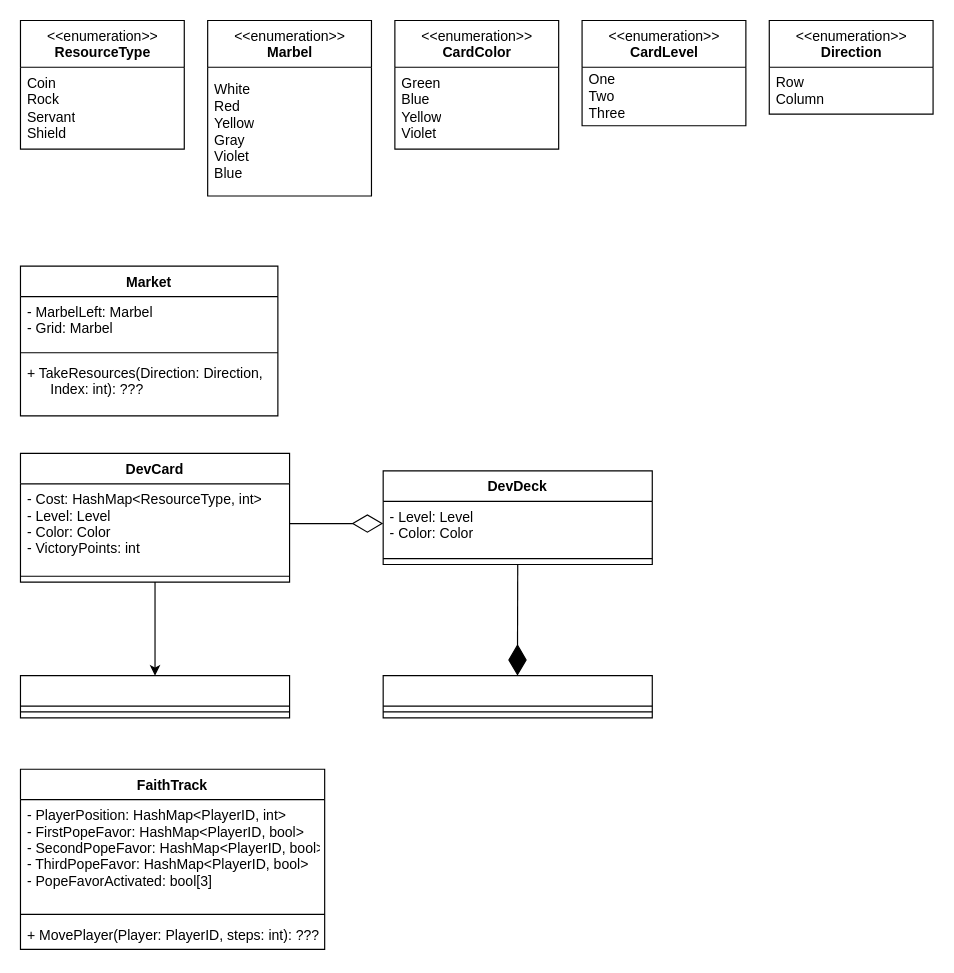
Some shapes in this 954 by 973 pixel diagram are drawn without their labels. Here are the shapes that lost their labels. From the top down, the centre of each, then its label:
At point (154, 696): "ProductionPower".
At point (517, 696): "DevCardGrid".
